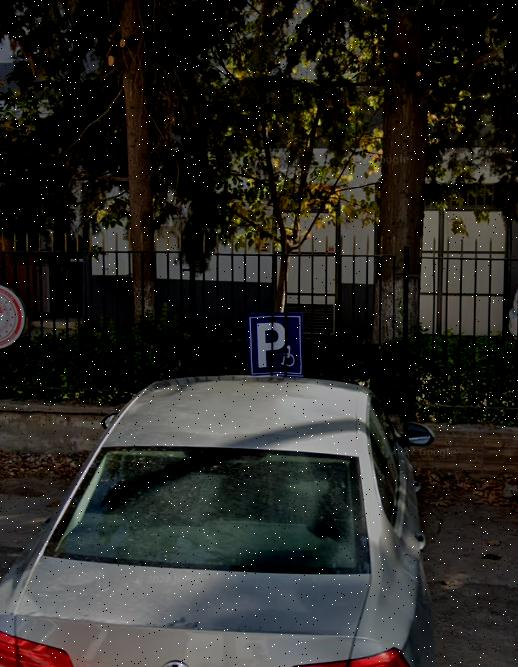disabledpark: (237, 304, 314, 379)
